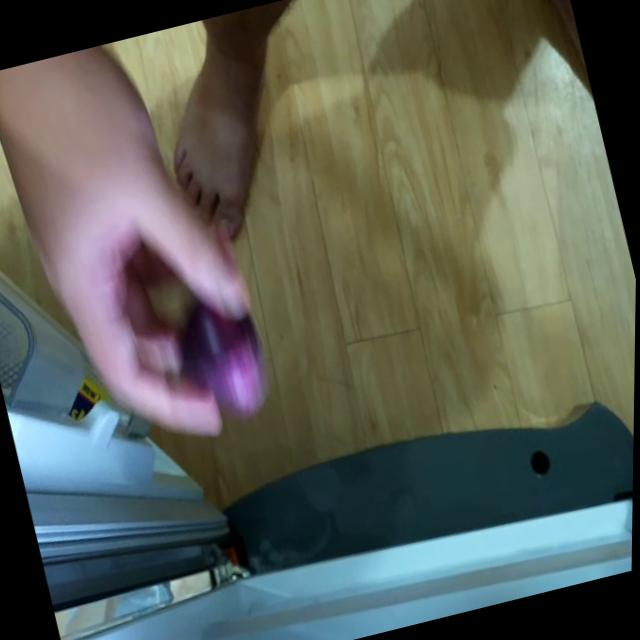onion: (154, 286, 285, 432)
